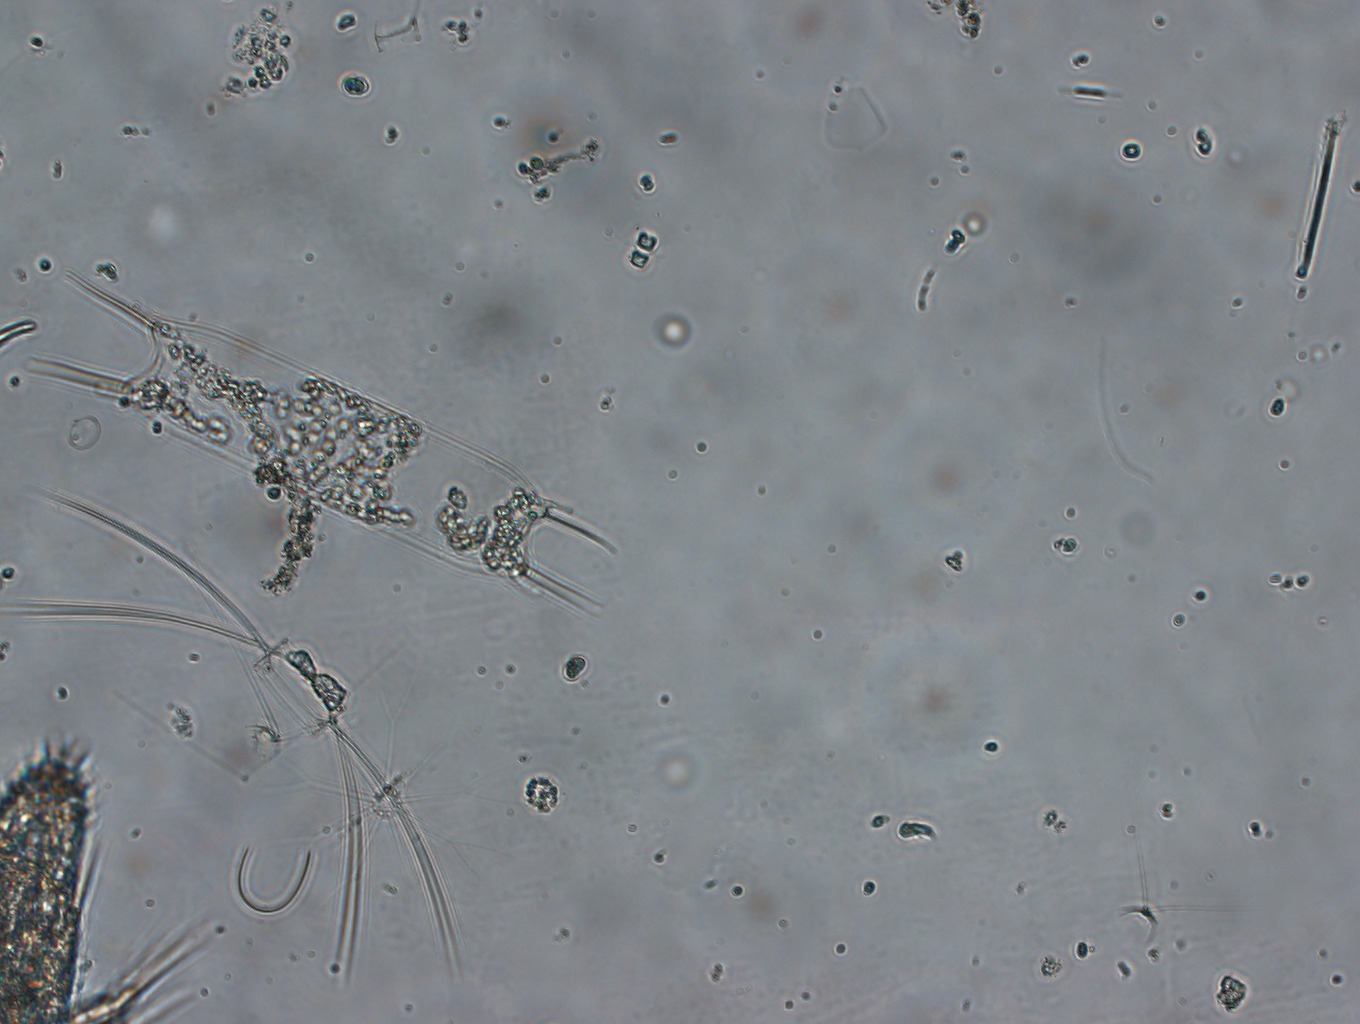biddulphia: (27, 256, 618, 630)
chaetoceros: (2, 477, 482, 1000)
